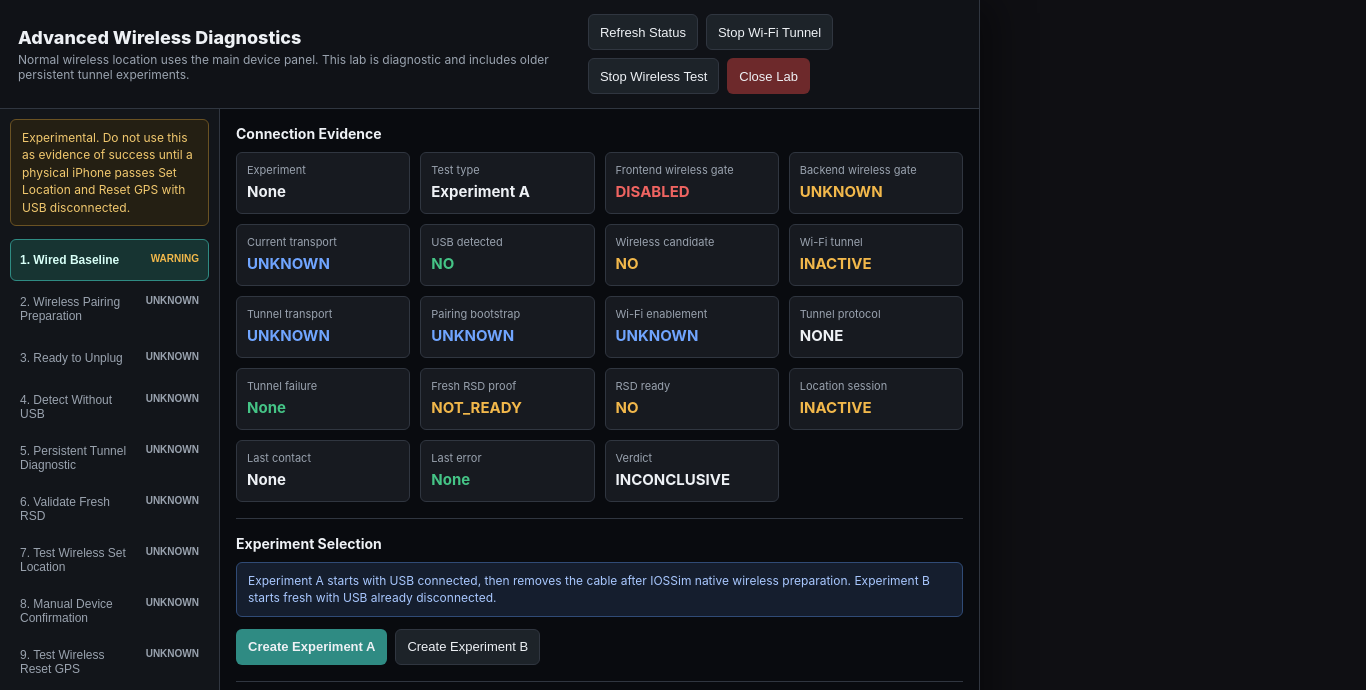
Scenario: Wireless Testing Lab › creates Experiment A through the wireless endpoint
The image size is (1366, 690).
Step 1. Click the button "Create Experiment A" → (312, 647), box [236,629,387,665]
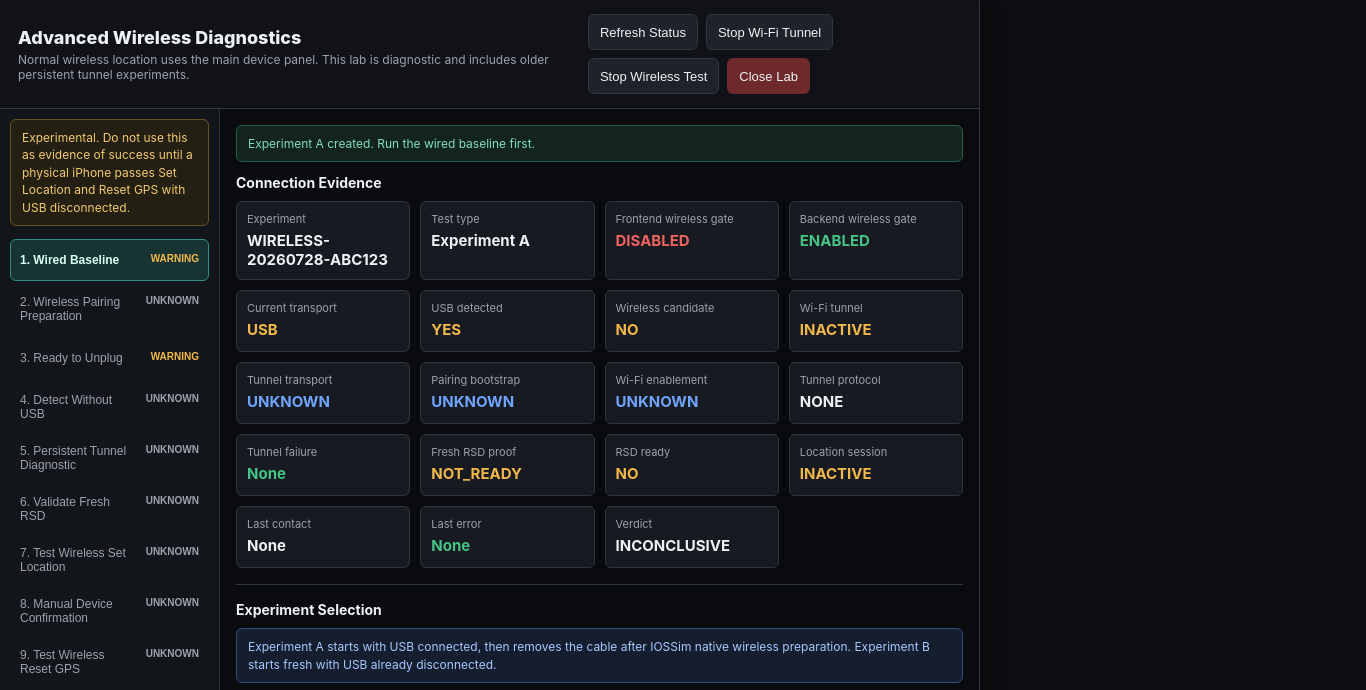
Expected: the text "Experiment A created. Run the wired baseline first." is shown, [236,125,963,162]
